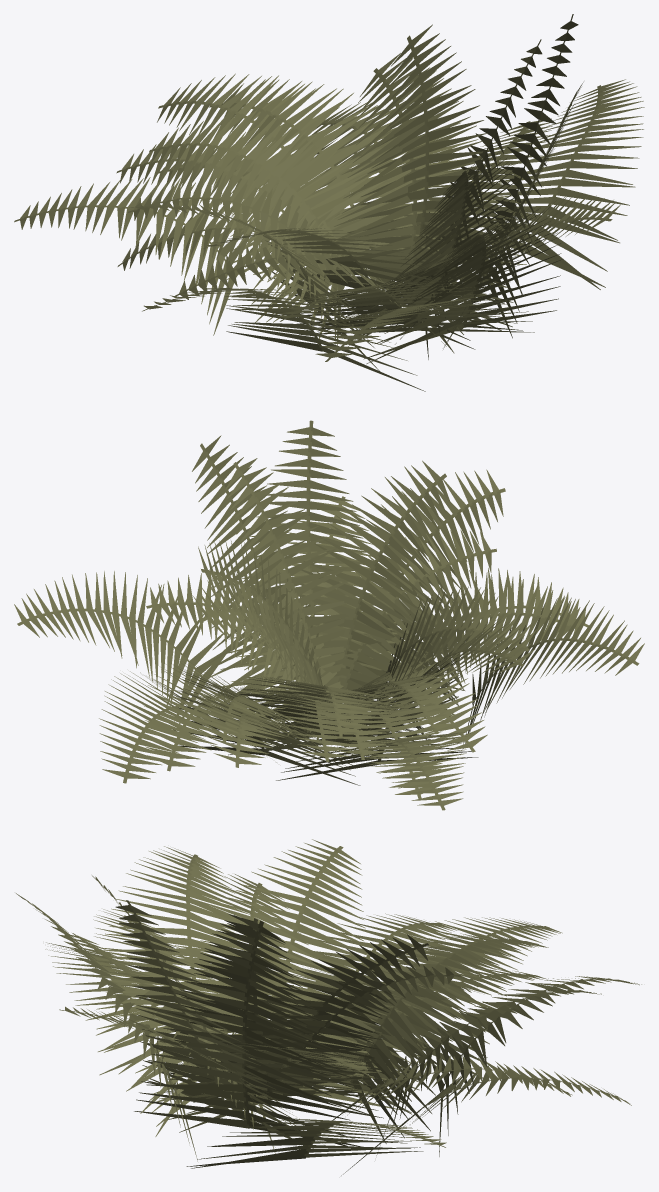
The model's file is fern.FBX.
3 renders of one model, top to bottom at view 1: azimuth 30°, elevation 25°; view 2: azimuth 150°, elevation 25°; view 3: azimuth 270°, elevation 25°, orthographic. The views are drawn at different scales.
Parts seen in each view (by area): view 1: Fern23; view 2: Fern23; view 3: Fern23.
Part boxes in pixels (box(x1,y1,x2,y2)): Fern23: box(14, 14, 644, 391); Fern23: box(14, 420, 644, 810); Fern23: box(16, 839, 641, 1175).
Bounding box in the file's own units: 35.7 × 15.28 × 32.35.
